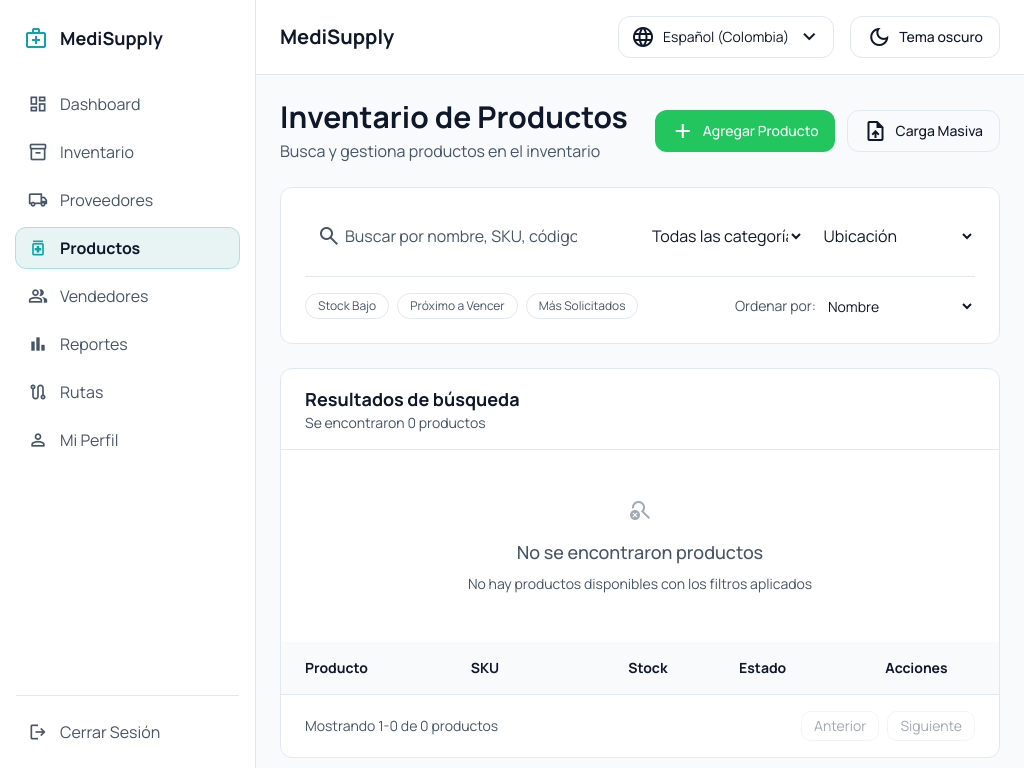
Test case: Registro de proveedores y carga de productos (individual y masivo) › Gestión de Productos › debe navegar a carga masiva de productos
// Buscar botón de carga masiva
Click the button "Carga Masiva".
click(924, 131)  # box [847,110,1001,152]
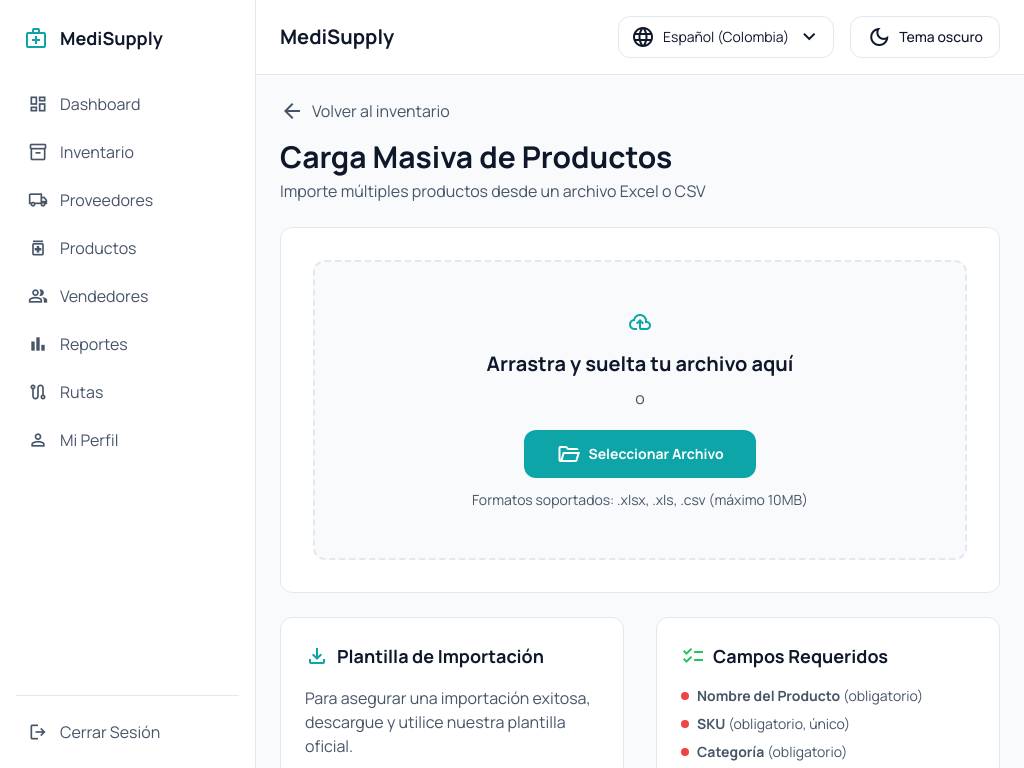
Result: the heading "Carga Masiva de Productos" is shown at [280,136,672,177]
